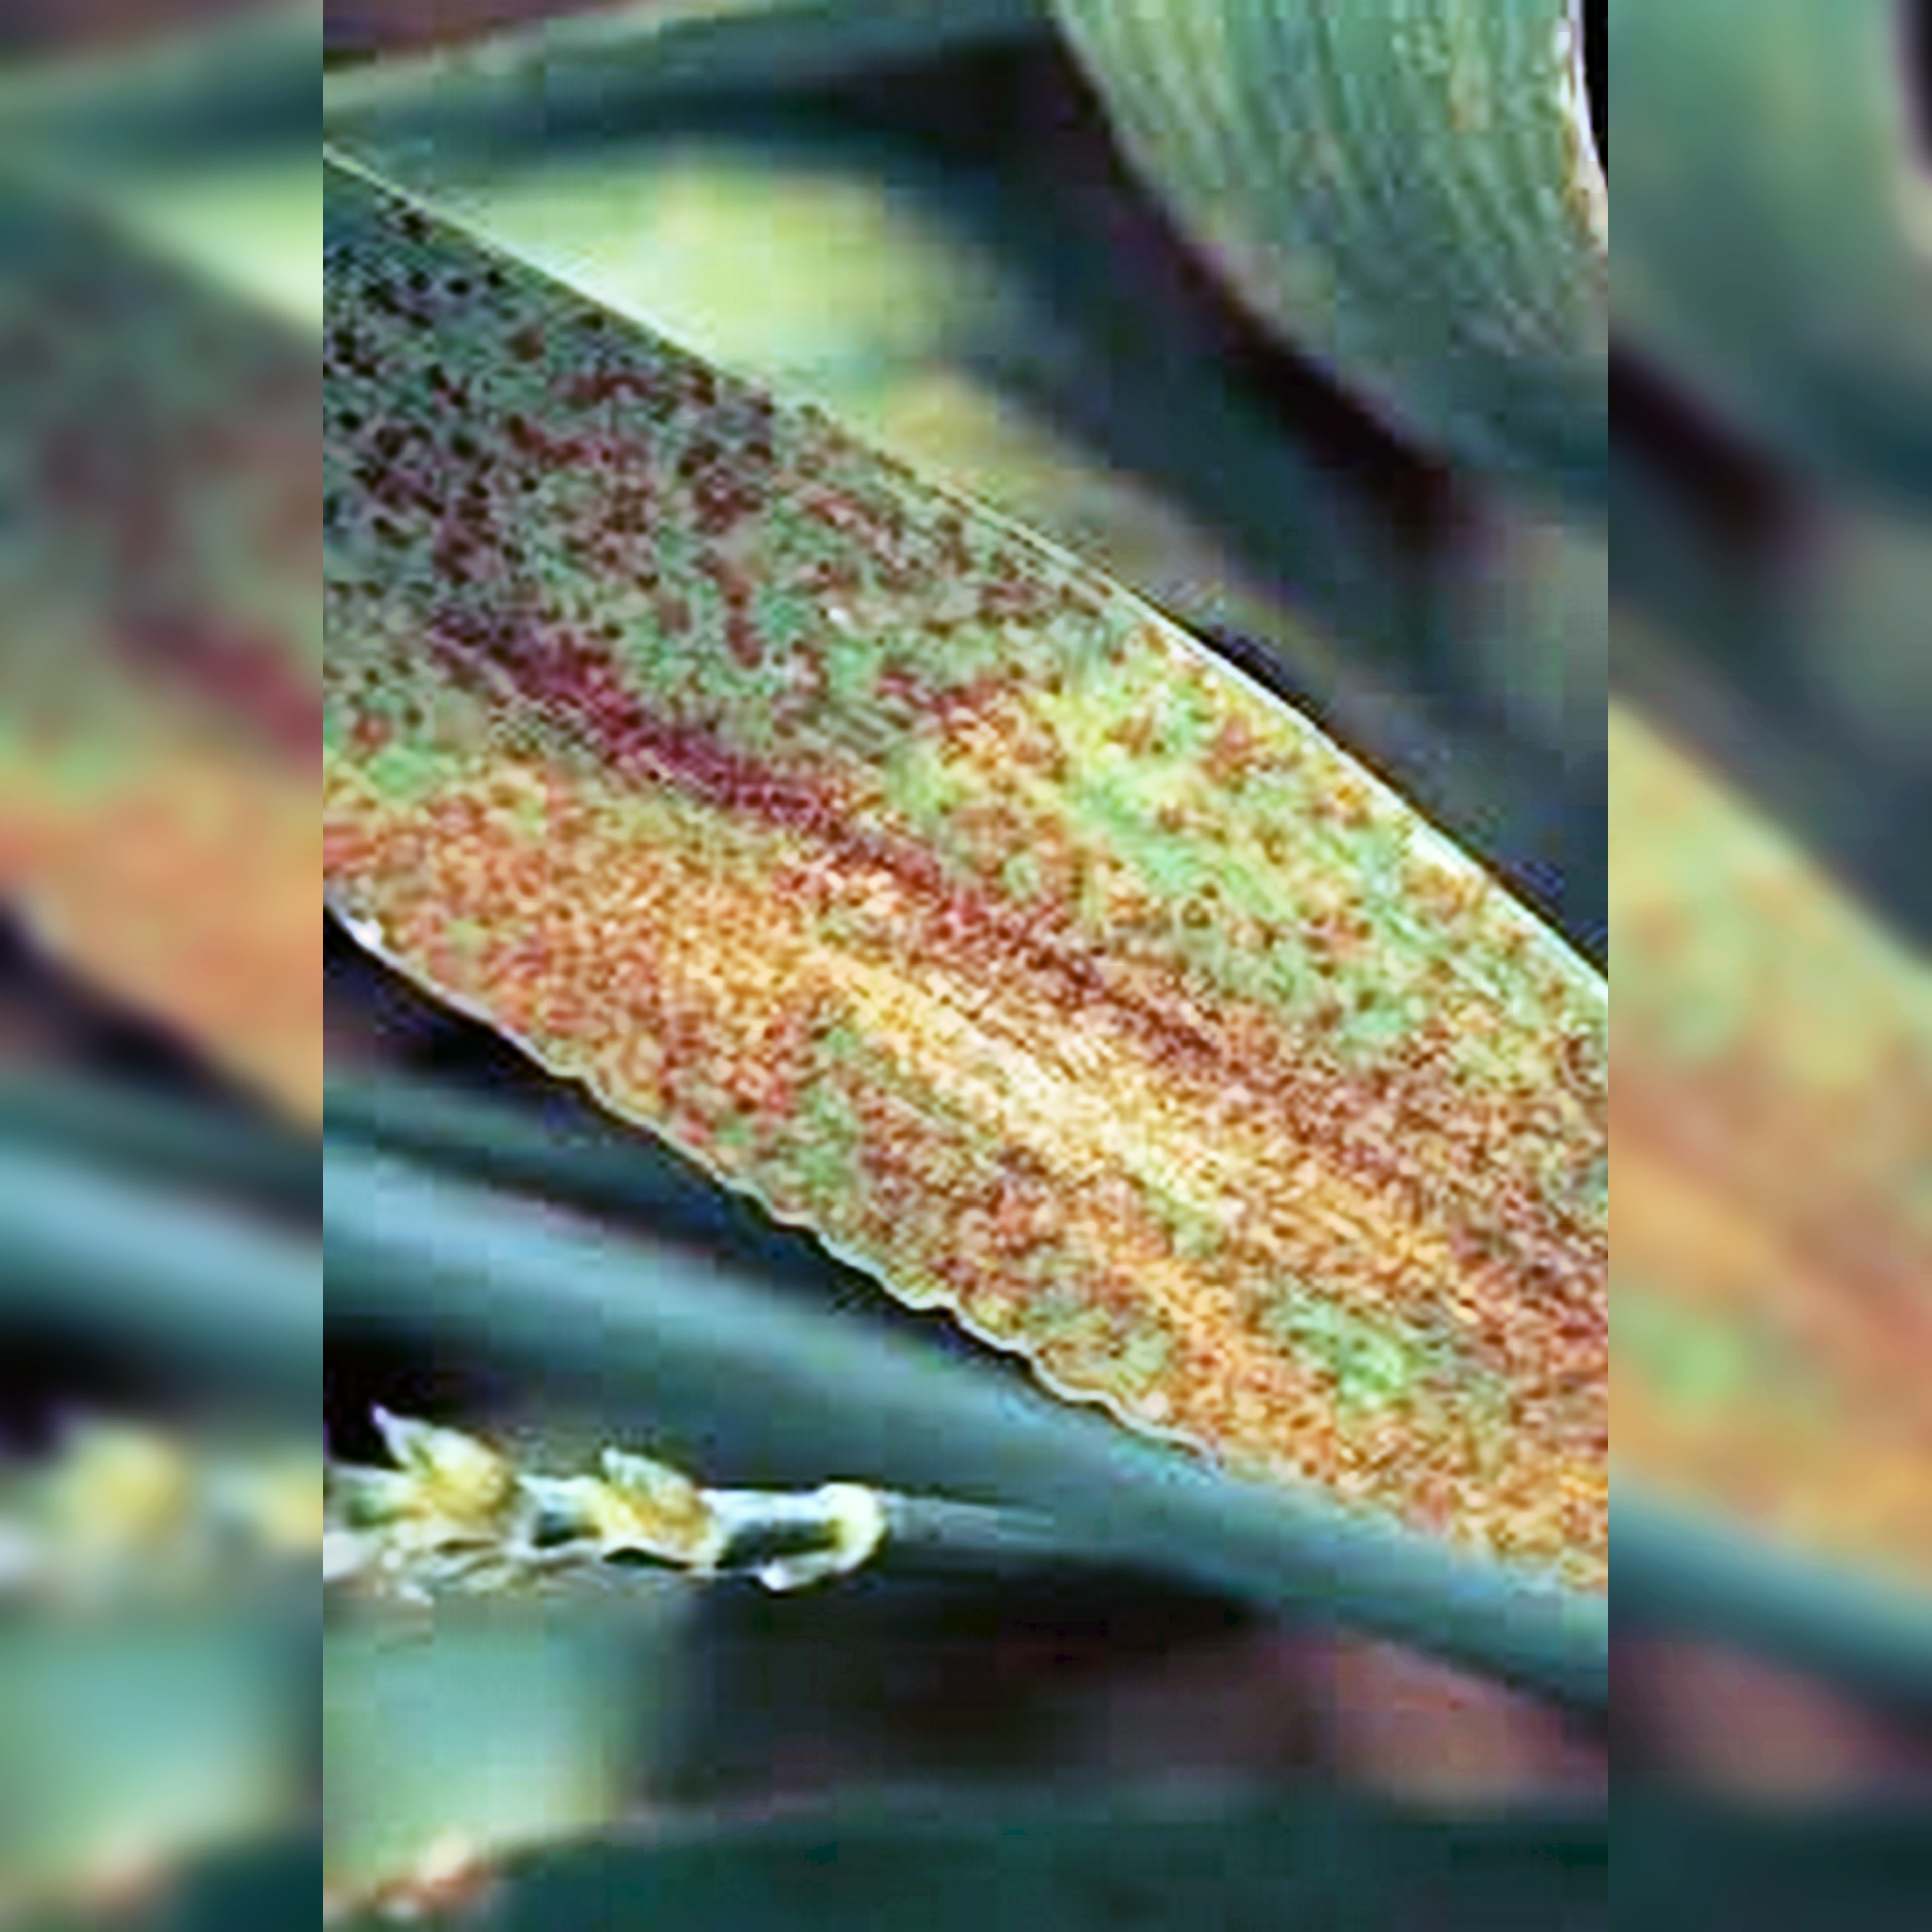Leaf Rust: (333, 347, 1622, 1529)
